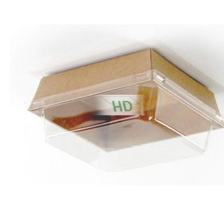plastic_box: (17, 42, 224, 180)
